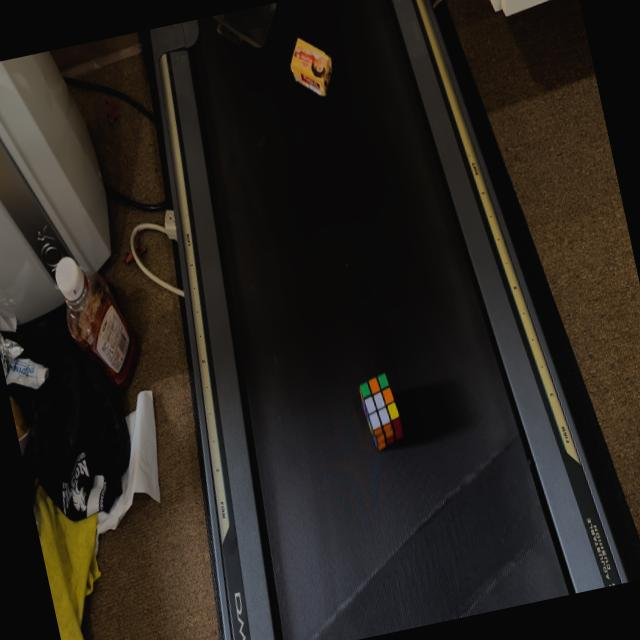Trash: (354, 368, 410, 459), (282, 26, 342, 110)
